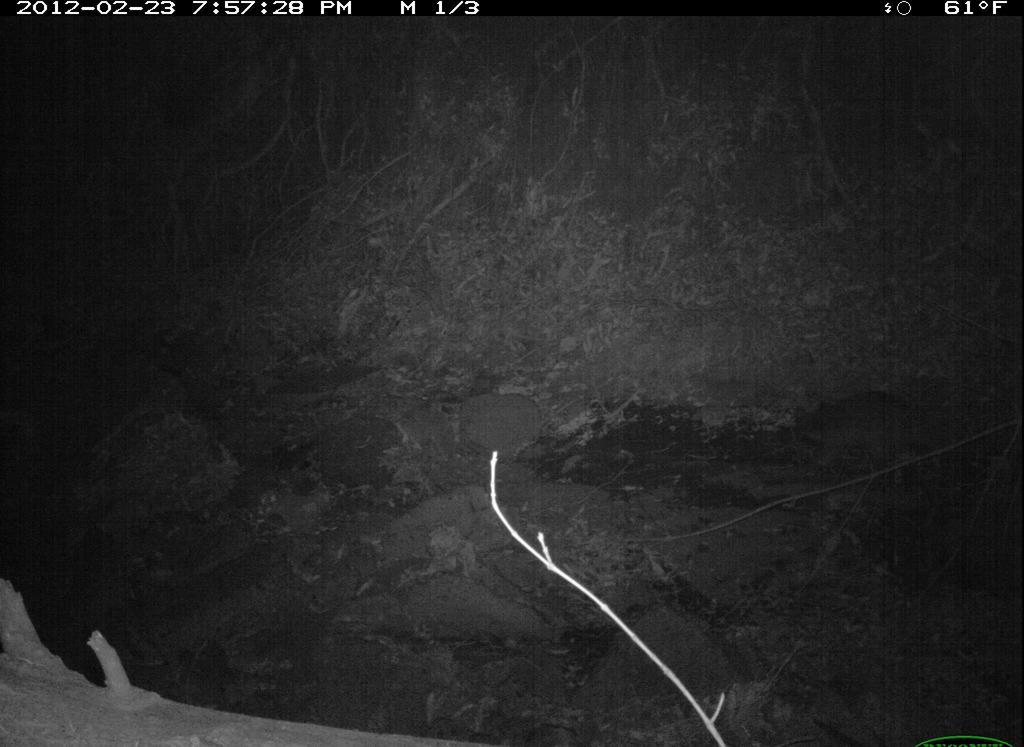raccoon: (792, 385, 955, 483)
